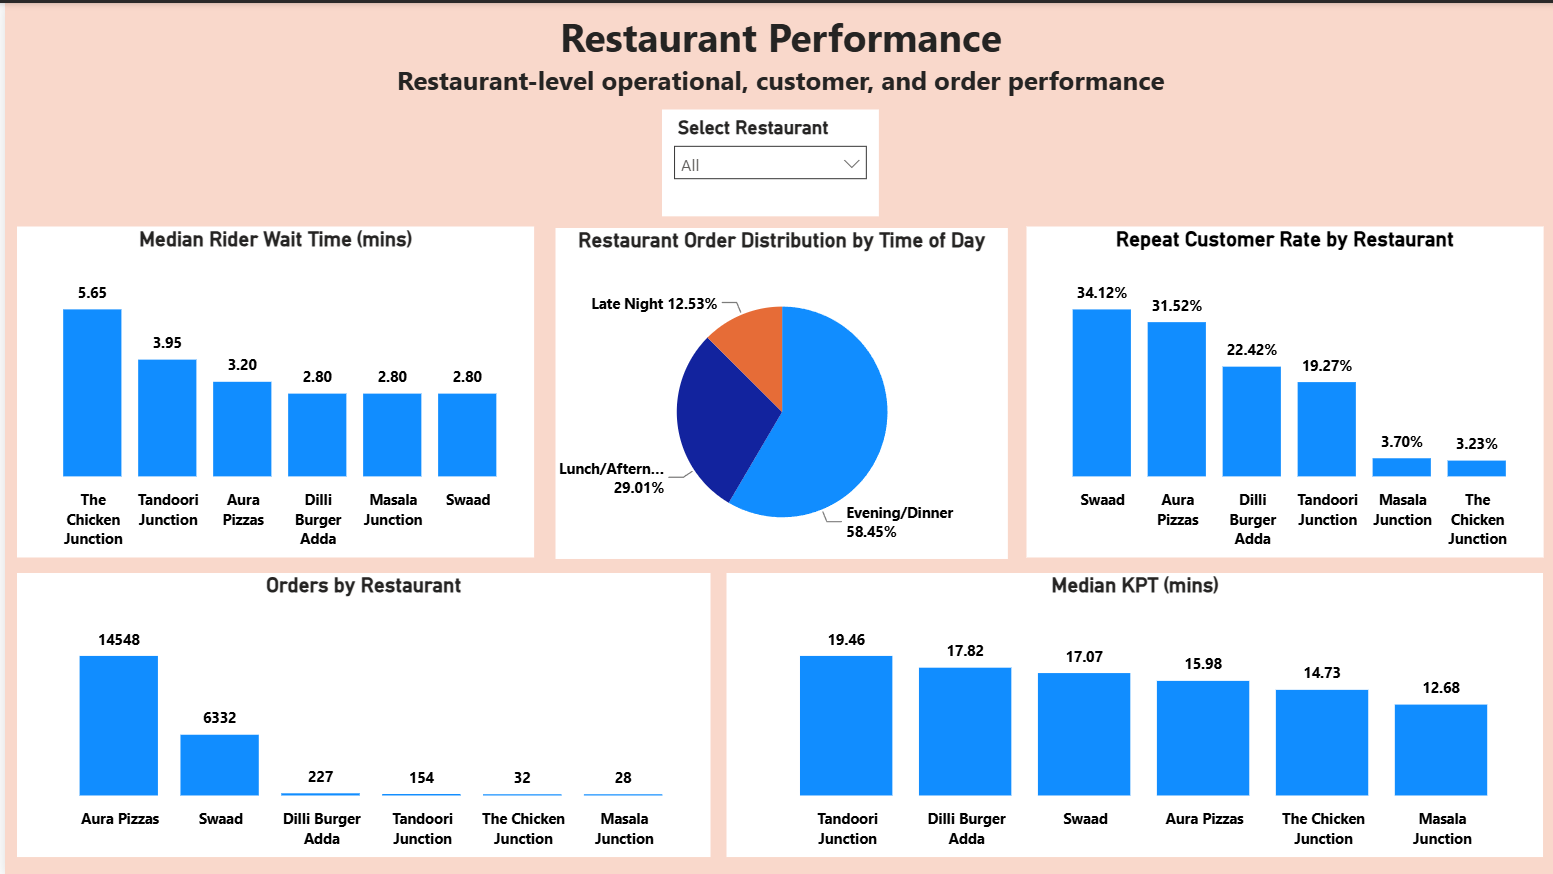

What the dashboard file says about the page in this screenshot:
{"tool":"powerbi","page":{"name":"Restaurant Performance","canvas":[1280,720],"ordinal":1},"visuals":[{"type":"textbox","box":[10.6,0,1256.1,89.4],"z":0},{"type":"slicer","fields":{"Values":["food_delivery_dashboard_data.Restaurant name"]},"box":[540.9,87.9,178.8,87.9],"z":1000},{"type":"clusteredColumnChart","title":"Orders by Restaurant","fields":{"Category":["food_delivery_dashboard_data.Restaurant name"],"Y":["CountNonNull(food_delivery_dashboard_data.Order ID)"]},"box":[10,470,571.4,234.3],"z":2000},{"type":"clusteredColumnChart","title":"Repeat Customer Rate by Restaurant ","fields":{"Category":["food_delivery_dashboard_data.Restaurant name"],"Y":["food_delivery_dashboard_data.Repeat Customer Rate by Restaurant"]},"box":[841.4,184.3,425.7,272.9],"z":3000},{"type":"clusteredColumnChart","title":"Median KPT (mins)","fields":{"Category":["food_delivery_dashboard_data.Restaurant name"],"Y":["Median(food_delivery_dashboard_data.KPT duration (minutes))"]},"box":[594.3,470,672.9,234.3],"z":4000},{"type":"clusteredColumnChart","title":"Median Rider Wait Time (mins)","fields":{"Category":["food_delivery_dashboard_data.Restaurant name"],"Y":["Median(food_delivery_dashboard_data.Rider wait time (minutes))"]},"box":[10,184.3,425.7,272.9],"z":5000},{"type":"pieChart","title":"Restaurant Order Distribution by Time of Day","fields":{"Category":["food_delivery_dashboard_data.Time_of_Day"],"Y":["CountNonNull(food_delivery_dashboard_data.Order ID)"]},"box":[453,184.8,372.7,272.7],"z":6000}]}

Visuals, with their boxes in screenshot pixels (x1, y1, x2, y2), scaled from the page's 1280x720 canvas onto the 1553x874 screenshot:
textbox: (left=13, top=0, right=1537, bottom=109)
slicer - food_delivery_dashboard_data.Restaurant name: (left=656, top=107, right=873, bottom=213)
"Orders by Restaurant" clusteredColumnChart: (left=12, top=571, right=705, bottom=855)
"Repeat Customer Rate by Restaurant " clusteredColumnChart: (left=1021, top=224, right=1537, bottom=555)
"Median KPT (mins)" clusteredColumnChart: (left=721, top=571, right=1537, bottom=855)
"Median Rider Wait Time (mins)" clusteredColumnChart: (left=12, top=224, right=529, bottom=555)
"Restaurant Order Distribution by Time of Day" pieChart: (left=550, top=224, right=1002, bottom=555)
